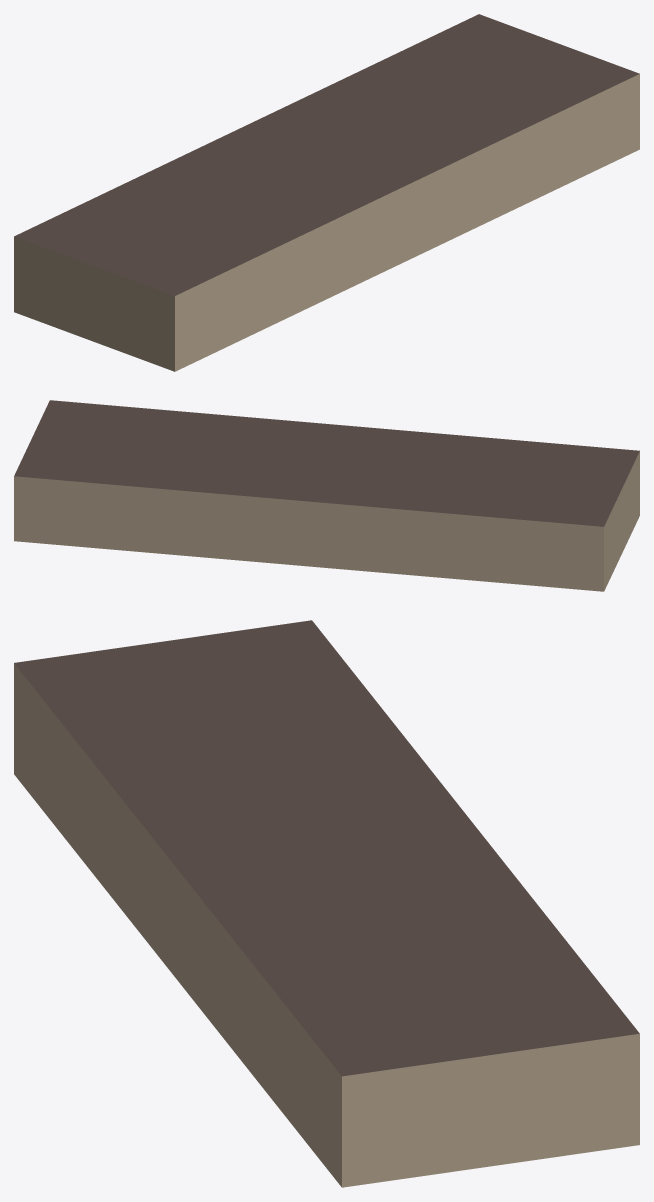
3 views of the same model, one above another, from view 1: azimuth 30°, elevation 25°; view 2: azimuth 150°, elevation 25°; view 3: azimuth 270°, elevation 25° (orthographic). The views are drawn at different scales.
Visible parts, largest first — view 1: HP-w858807450; view 2: HP-w858807450; view 3: HP-w858807450.
Part boxes in pixels (left/top/right/bottom): HP-w858807450: left=14, top=14, right=639, bottom=371; HP-w858807450: left=14, top=400, right=639, bottom=591; HP-w858807450: left=14, top=620, right=639, bottom=1187.
Size of the model in its own units: 52.73 by 6 by 30.58.
